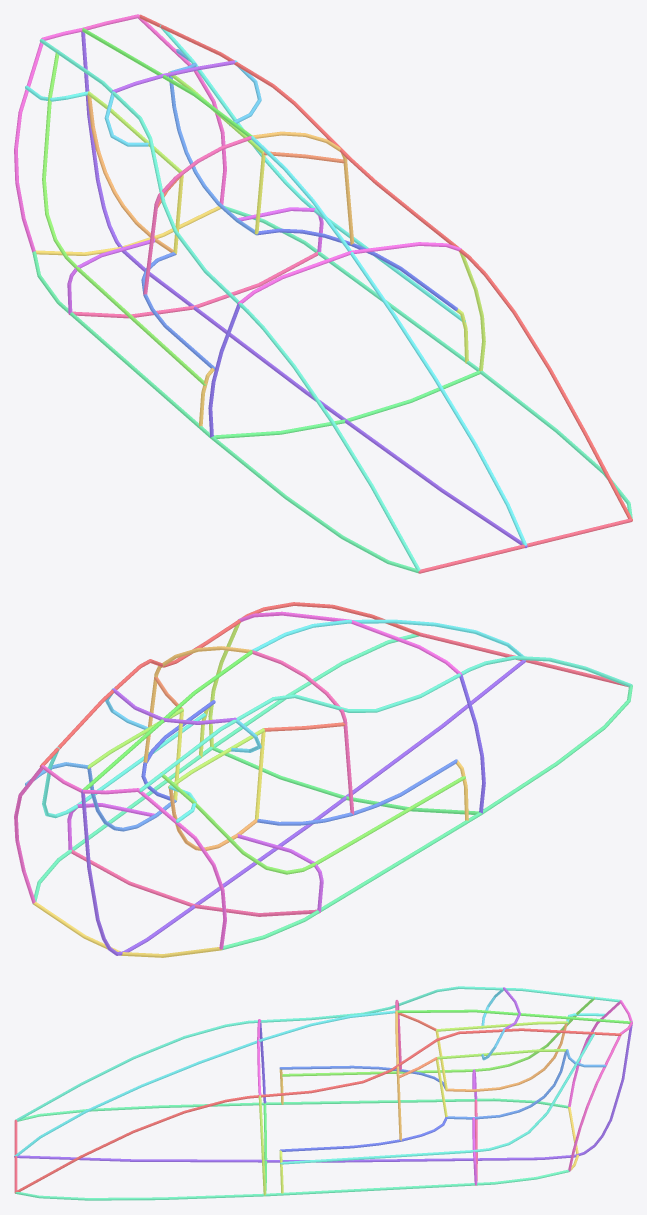
The model's file is t2f_hand_vacuum.gltf.
The picture shows the model from 3 angles, top to bottom: view 1: azimuth 30°, elevation 25°; view 2: azimuth 150°, elevation 25°; view 3: azimuth 270°, elevation 25°; orthographic projection. The views are drawn at different scales.
Bounding box in the file's own units: 0.3293 × 0.2527 × 0.9163.
